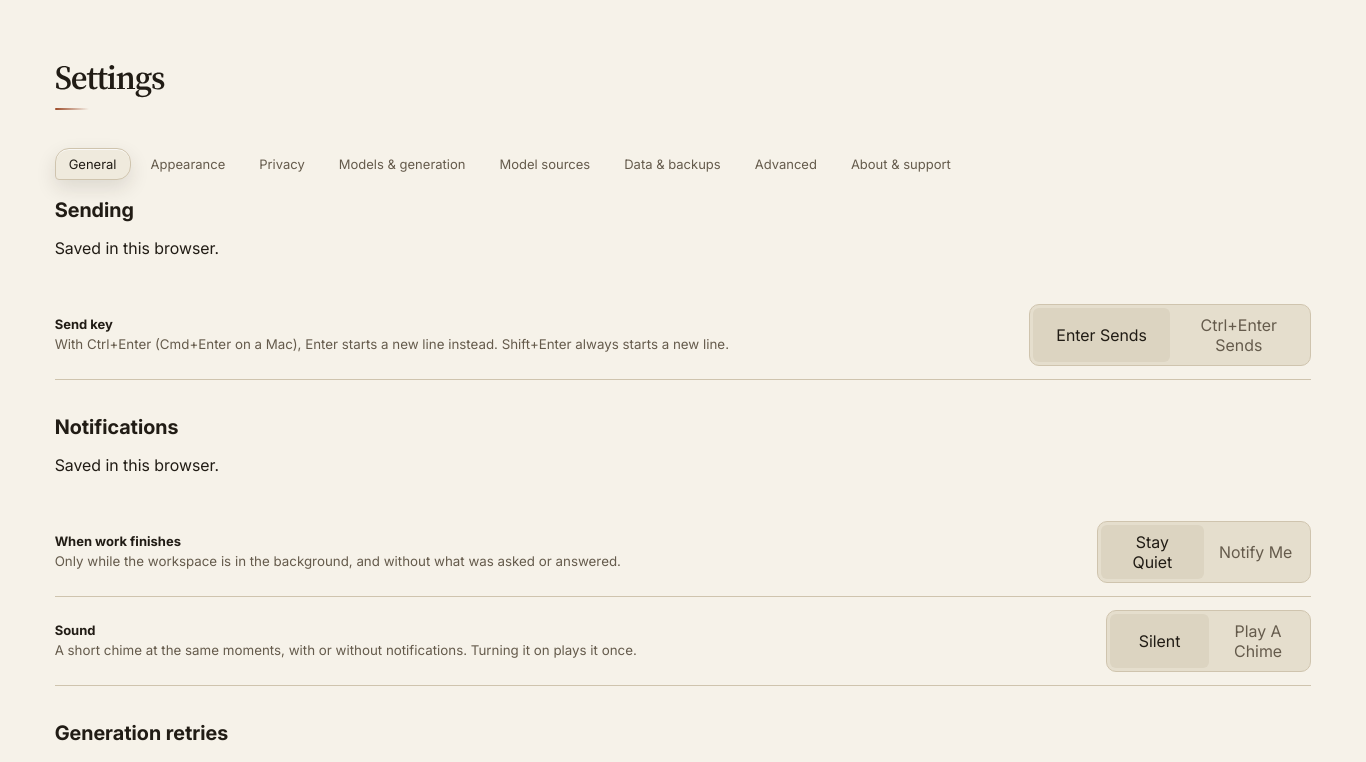
Test: keeps the scheduled restore when it cannot be cancelled
Click the button "Data & backups" at (672, 164), box left=610, top=148, right=735, bottom=180
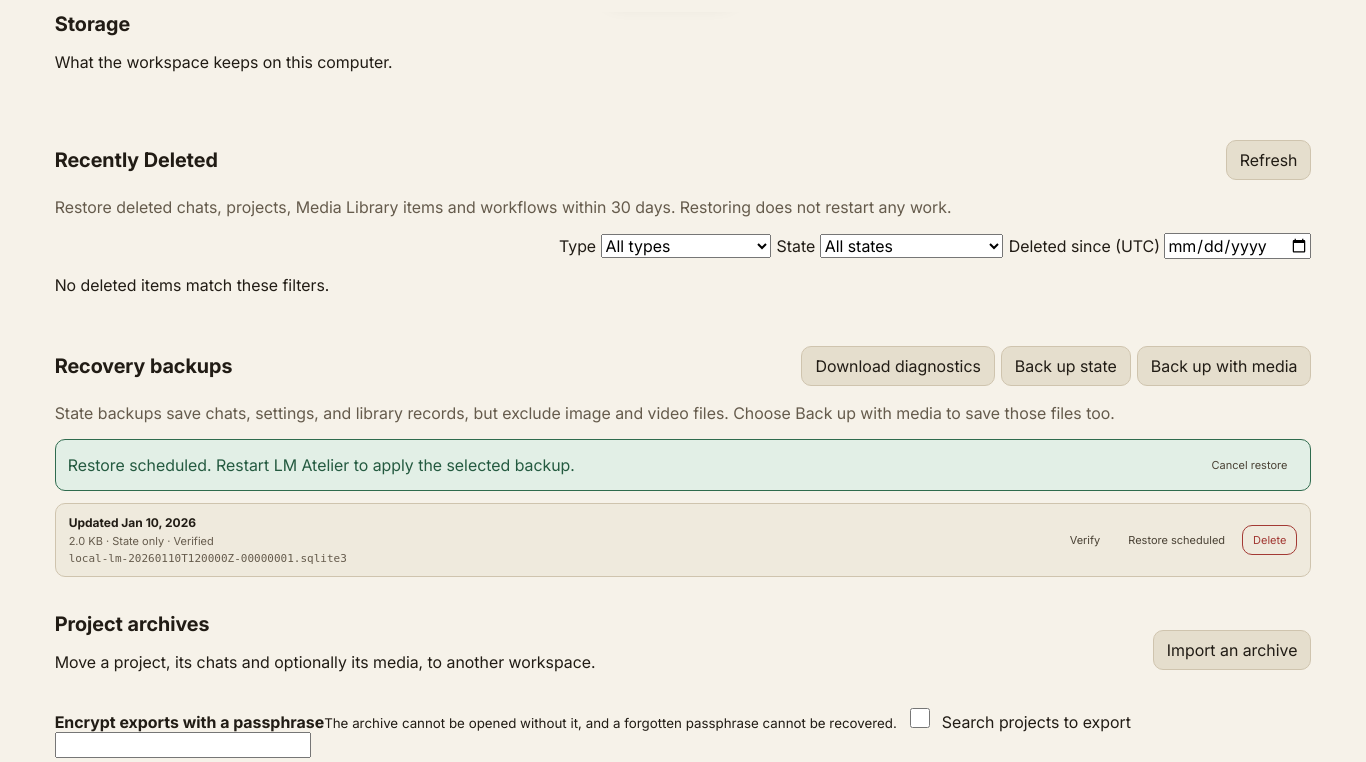
Result: the text "Restore scheduled. Restart LM Atelier to apply the selected backup." is shown at left=68, top=455, right=575, bottom=475
Click the button "Cancel restore" at (1250, 465), box left=1201, top=450, right=1298, bottom=480
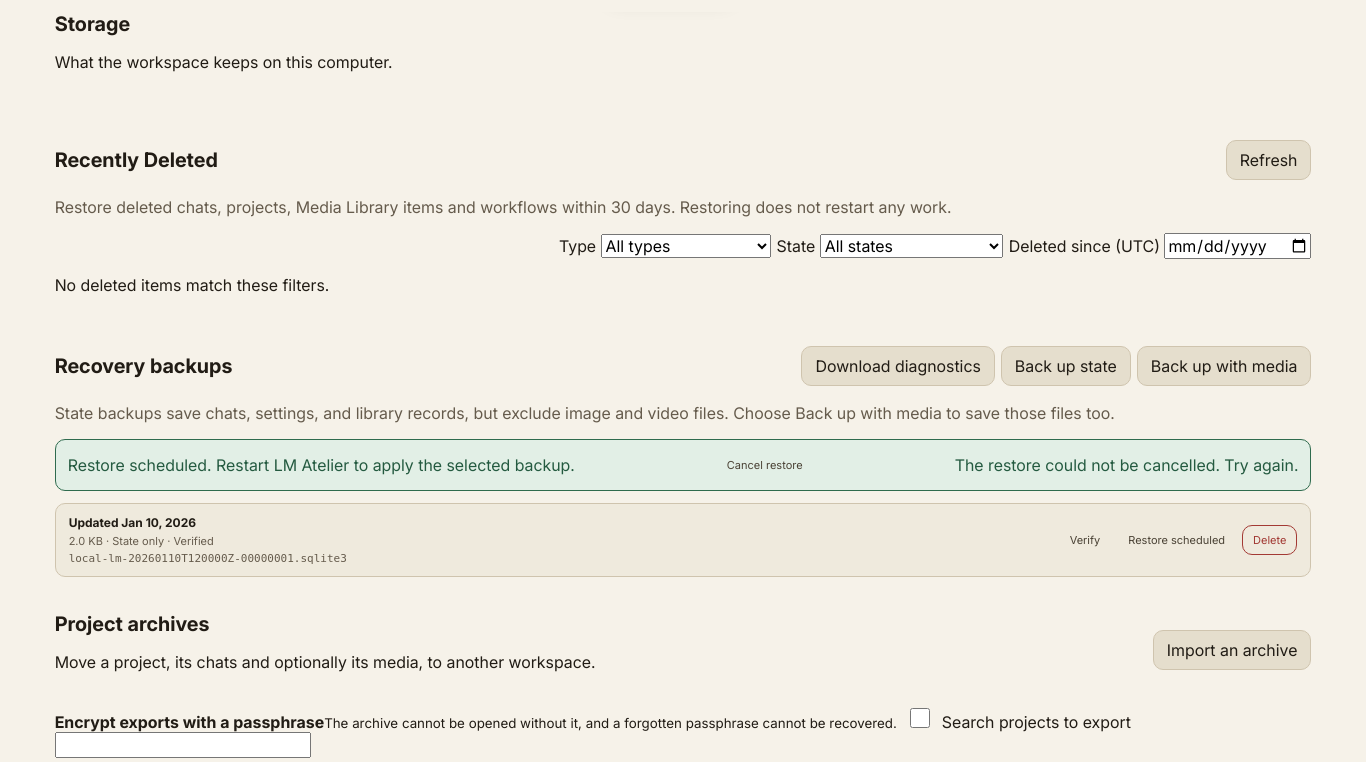
Result: the text "Restore scheduled. Restart LM Atelier to apply the selected backup." is shown at left=68, top=455, right=575, bottom=475
Result: the text "The restore could not be cancelled. Try again." is shown at left=955, top=455, right=1298, bottom=475
